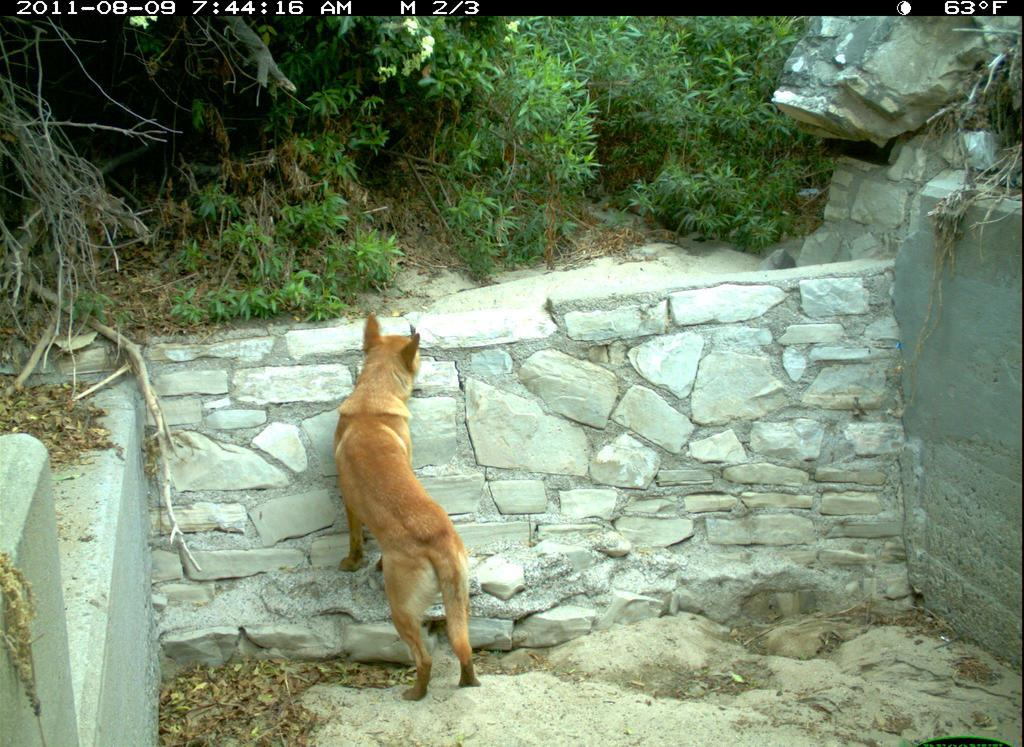dog: (317, 292, 502, 710)
